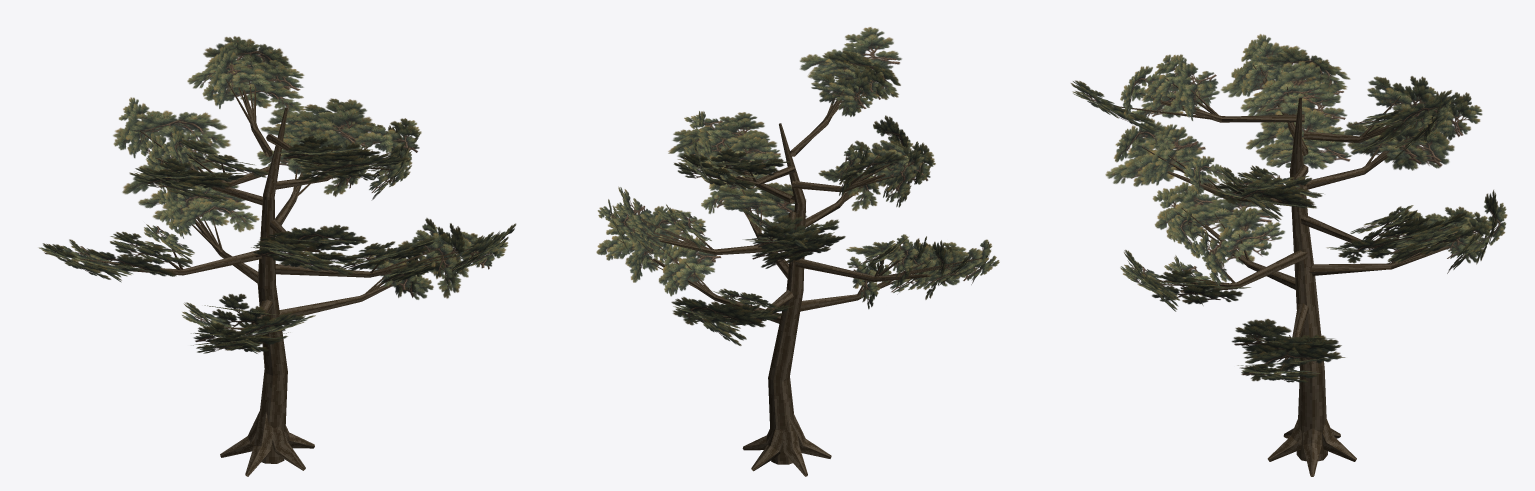
The model's file is chinese_pine_a.glb.
3 views of the same model, side by side, from view 1: azimuth 30°, elevation 25°; view 2: azimuth 150°, elevation 25°; view 3: azimuth 270°, elevation 25° (orthographic). The views are drawn at different scales.
Parts seen in each view (by area): view 1: chinese_pine_a / painted boughs, chinese_pine_a / crooked wood; view 2: chinese_pine_a / painted boughs, chinese_pine_a / crooked wood; view 3: chinese_pine_a / painted boughs, chinese_pine_a / crooked wood.
Part boxes in pixels (box(x1,y1,x2,y2)): chinese_pine_a / painted boughs: box(38, 36, 516, 353); chinese_pine_a / crooked wood: box(80, 63, 478, 476); chinese_pine_a / painted boughs: box(596, 27, 999, 345); chinese_pine_a / crooked wood: box(617, 68, 982, 476); chinese_pine_a / painted boughs: box(1070, 34, 1507, 382); chinese_pine_a / crooked wood: box(1115, 64, 1462, 476).
Bounding box in the file's own units: 8.66 × 6.7 × 7.18.
2 materials, 2 textured.
